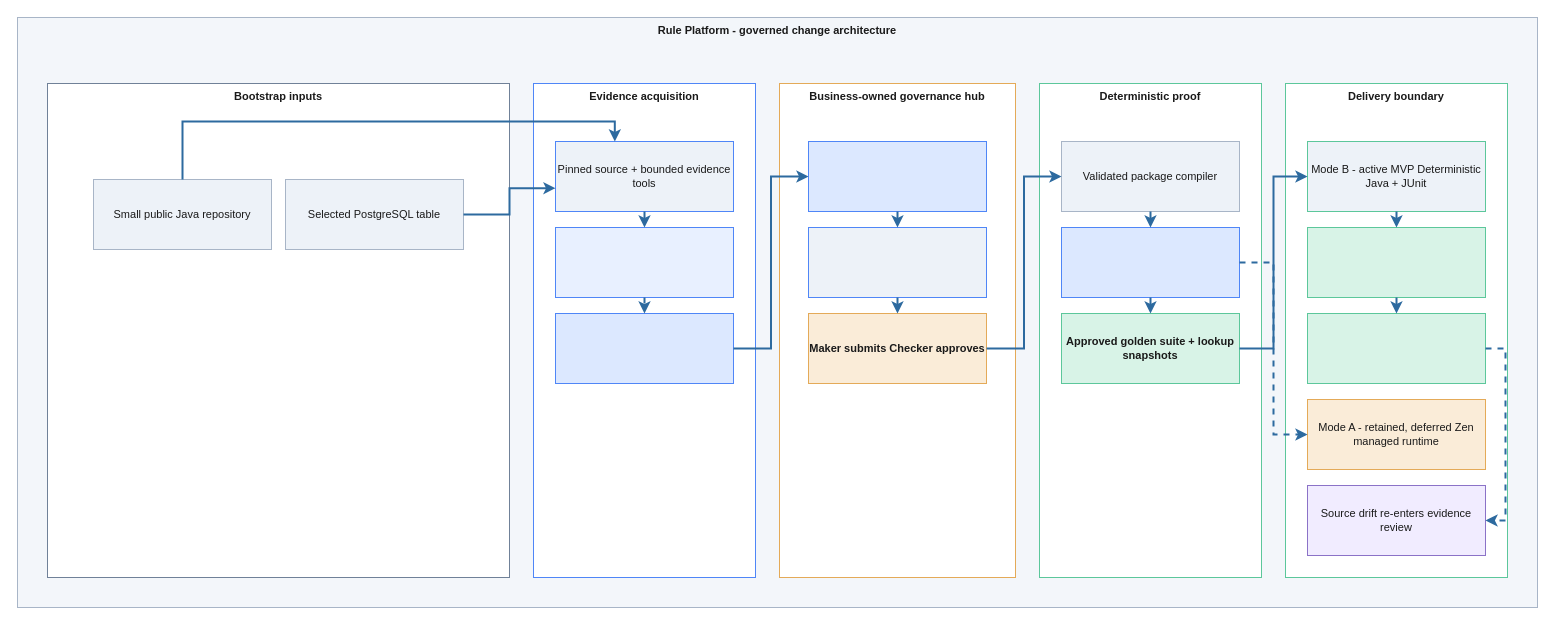
Some shapes in this 1555 by 625 pixel diagram are drawn without their labels. The centre of each missing label's shape, as x and y in pixels:
"Candidate-only LLM schema validated" belongs at pixel 644 262.
"Canonical Decision Package" belongs at pixel 897 176.
"Canonical Studio business authoring" belongs at pixel 897 262.
"Compile + generated + target tests" belongs at pixel 1396 262.
"EvidenceBundle + candidate package" belongs at pixel 644 348.
"Executable Rule IR" belongs at pixel 1150 262.
"Pushed branch + reviewable pull request" belongs at pixel 1396 348.
